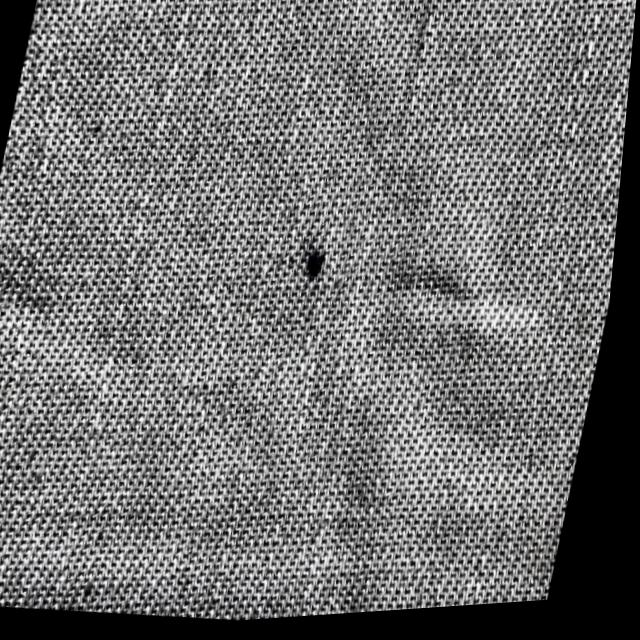Hole: (298, 226, 352, 308)
